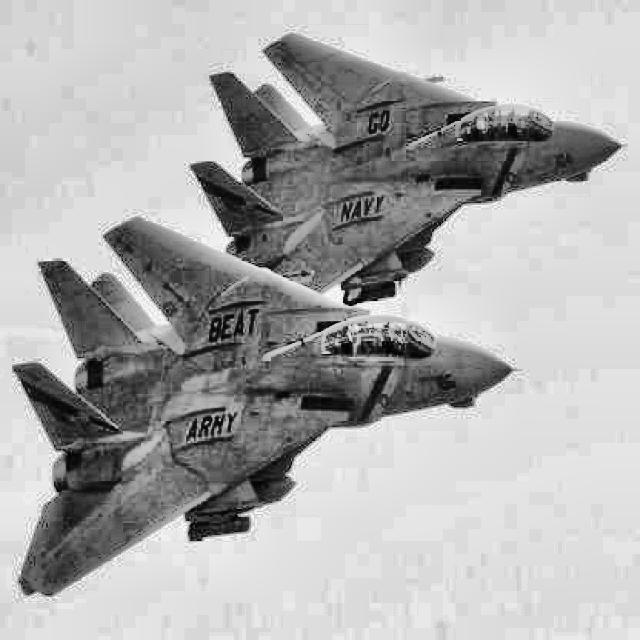F14: (11, 215, 522, 597), (190, 32, 628, 306)
